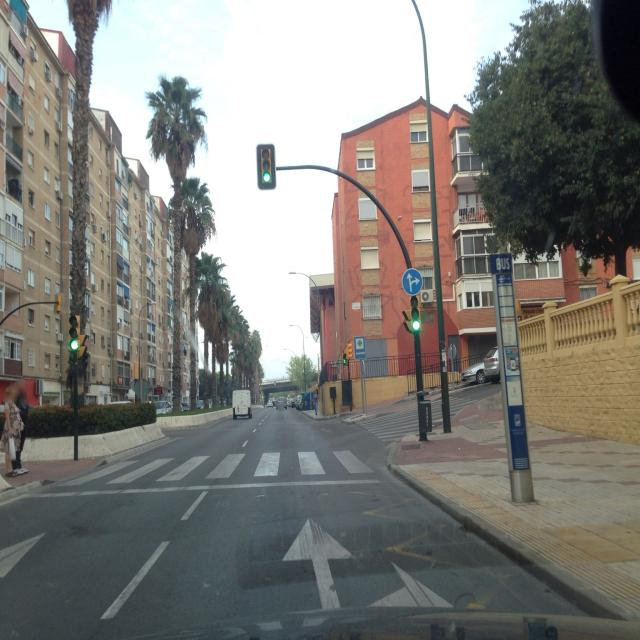car: (459, 344, 516, 386), (232, 388, 252, 419), (155, 400, 172, 414)
